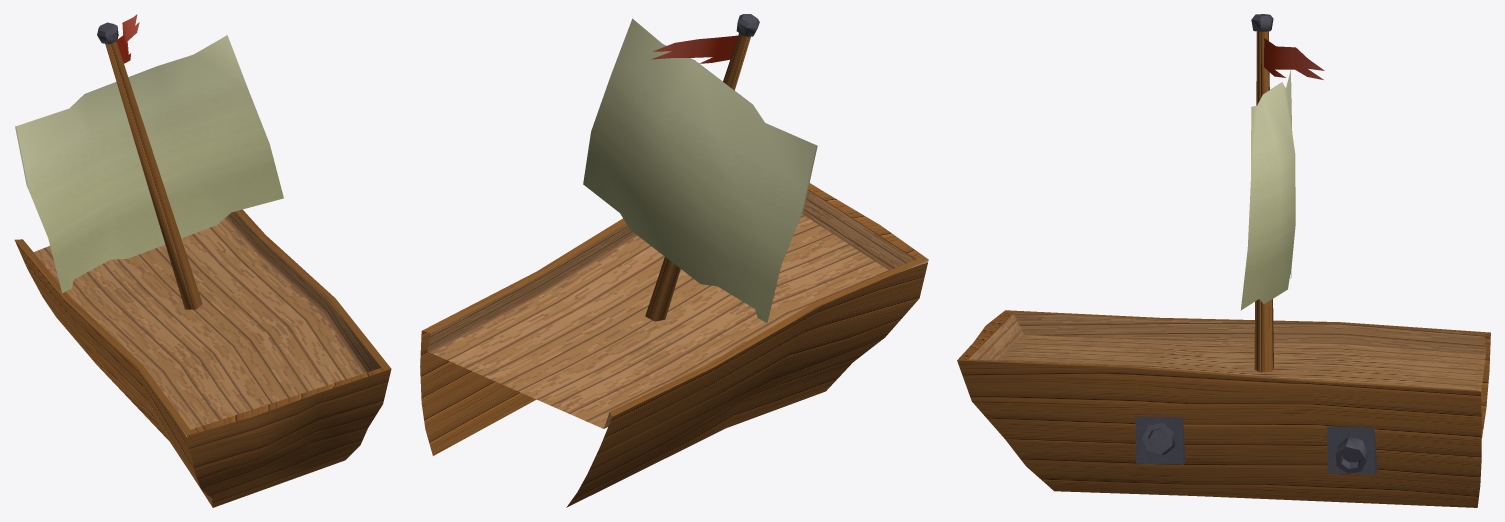
The picture shows the model from 3 angles, left to right: view 1: azimuth 30°, elevation 25°; view 2: azimuth 150°, elevation 25°; view 3: azimuth 270°, elevation 25°; orthographic projection. The views are drawn at different scales.
Visible parts, largest first — view 1: defaultMaterial.034; view 2: defaultMaterial.034; view 3: defaultMaterial.034.
Part boxes in pixels (bbox=[...]): defaultMaterial.034: bbox=[14, 14, 391, 507]; defaultMaterial.034: bbox=[420, 14, 928, 507]; defaultMaterial.034: bbox=[957, 14, 1490, 507].
Size of the model in its own units: 440 by 621 by 689.
1 material, 1 textured.
